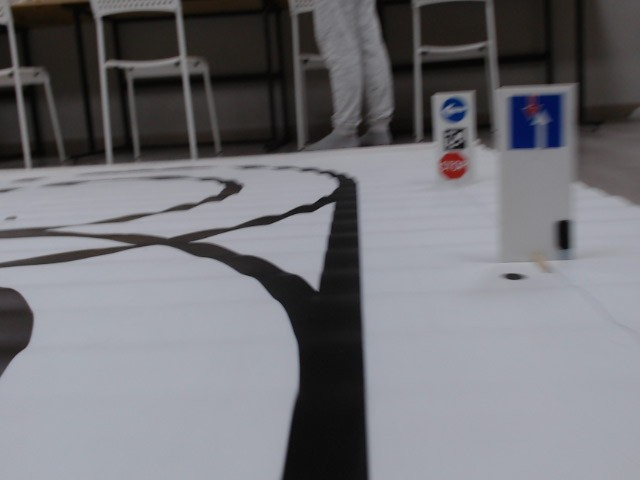Stop: (439, 152, 466, 179)
priority_movement: (506, 89, 569, 150)
